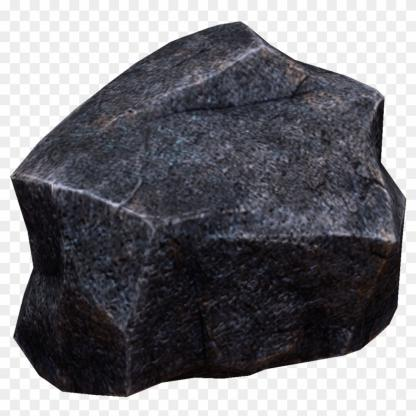Igneous_Basalt: (10, 13, 411, 388)
